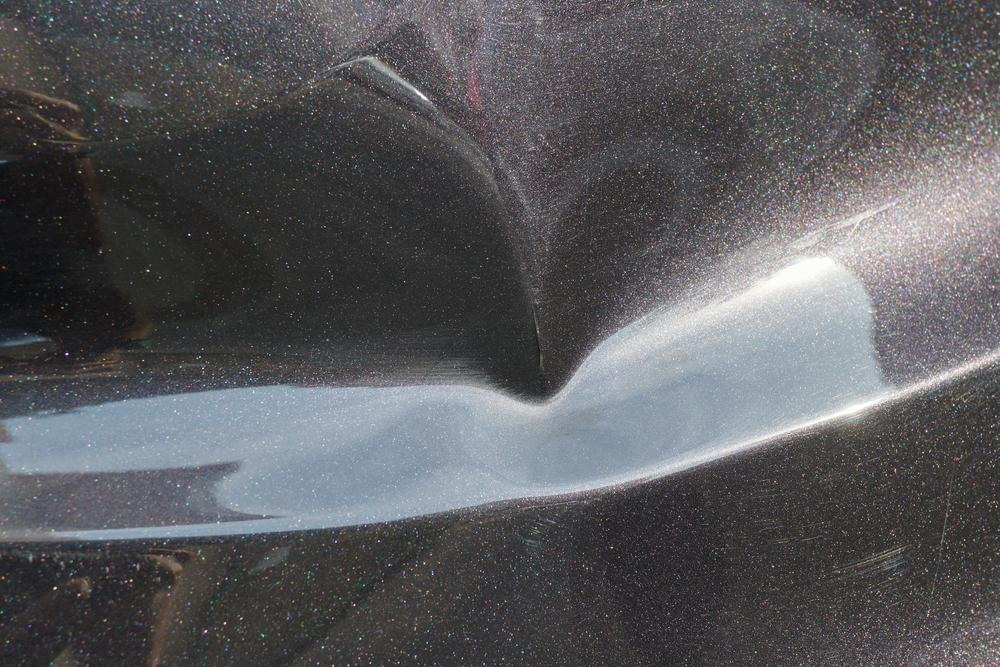dent: (84, 68, 785, 491)
